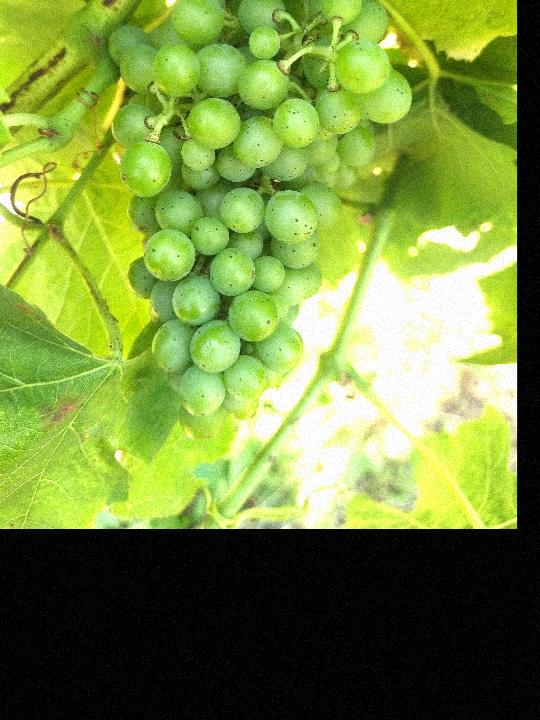grape: (110, 0, 416, 444)
